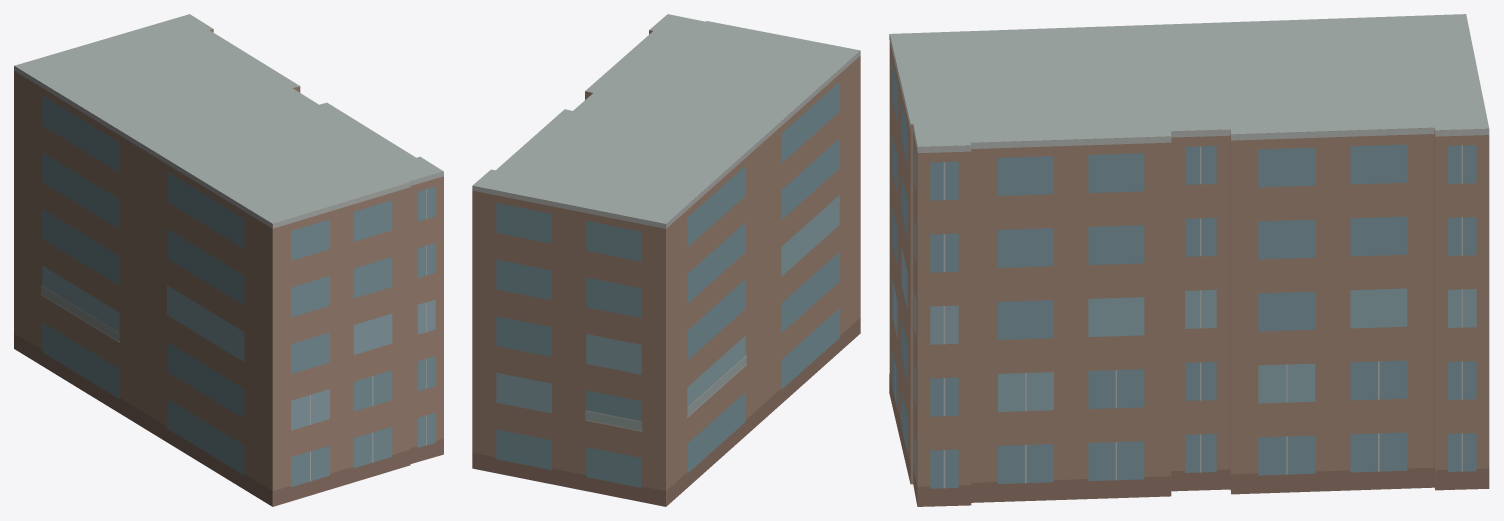
File: survey-upis-32922198.glb
3 renders of one model, left to right at view 1: azimuth 30°, elevation 25°; view 2: azimuth 150°, elevation 25°; view 3: azimuth 270°, elevation 25°, orthographic. The views are drawn at different scales.
Parts seen in each view (by area): view 1: survey-upis-32922198.tmp; view 2: survey-upis-32922198.tmp; view 3: survey-upis-32922198.tmp.
Part boxes in pixels (bbox=[...]): survey-upis-32922198.tmp: bbox=[14, 14, 443, 506]; survey-upis-32922198.tmp: bbox=[472, 14, 860, 506]; survey-upis-32922198.tmp: bbox=[889, 14, 1489, 506].
Bounding box in the file's own units: 11.01 × 13.9 × 20.99.
